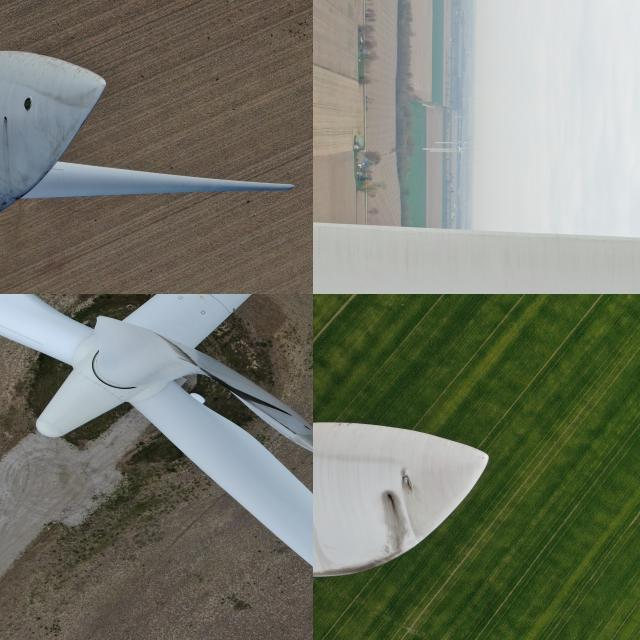damage: (214, 378, 300, 424), (378, 490, 404, 536), (0, 114, 11, 125)
